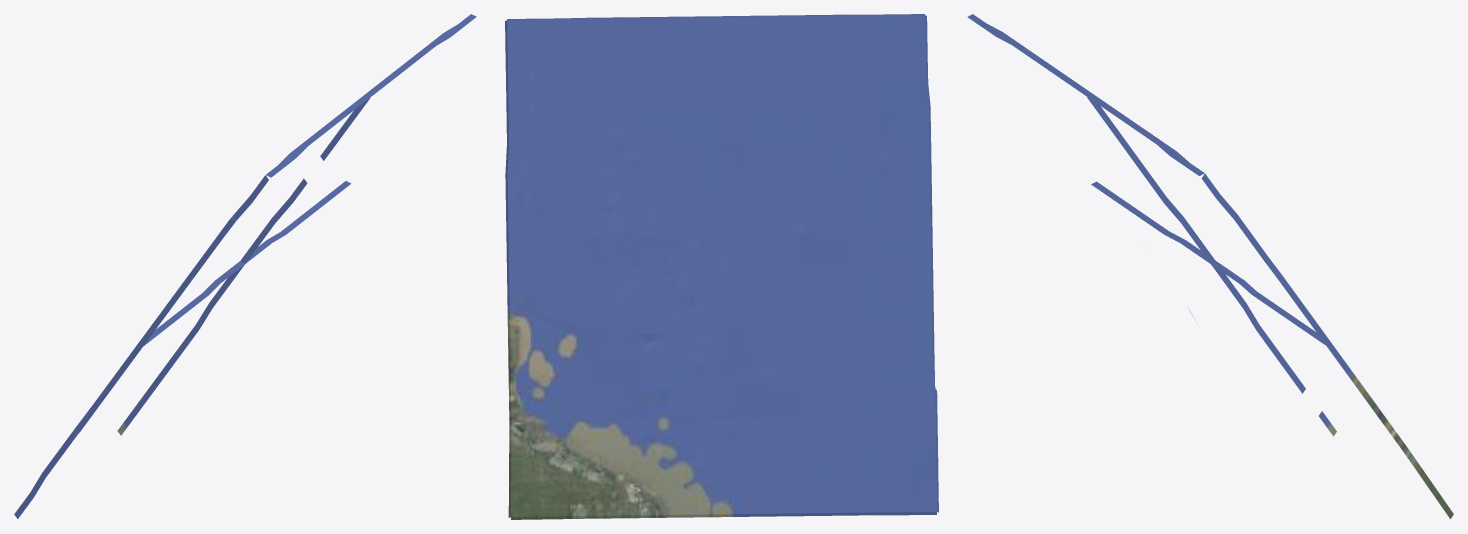
3 views of the same model, side by side, from view 1: azimuth 30°, elevation 25°; view 2: azimuth 150°, elevation 25°; view 3: azimuth 270°, elevation 25° (orthographic). The views are drawn at different scales.
Bounding box in the file's own units: 158516 × 133324 × 143663.
Materials: 1 (1 with a texture image).
